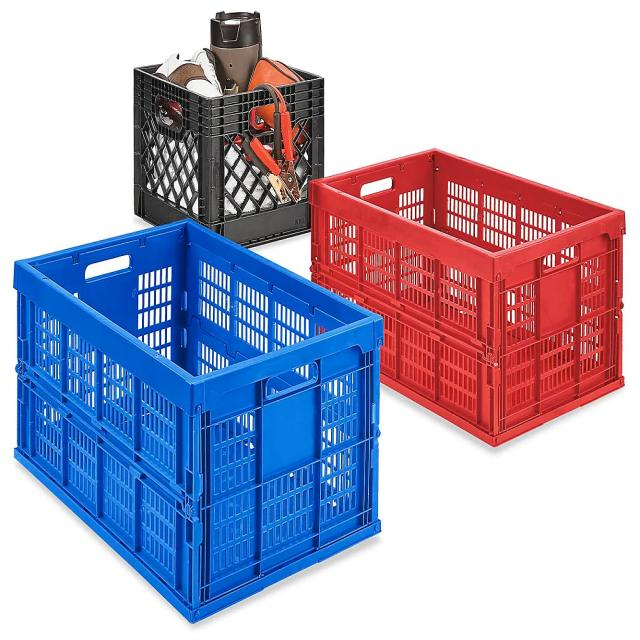basket: (13, 220, 383, 623), (306, 147, 628, 448), (128, 63, 328, 248)
